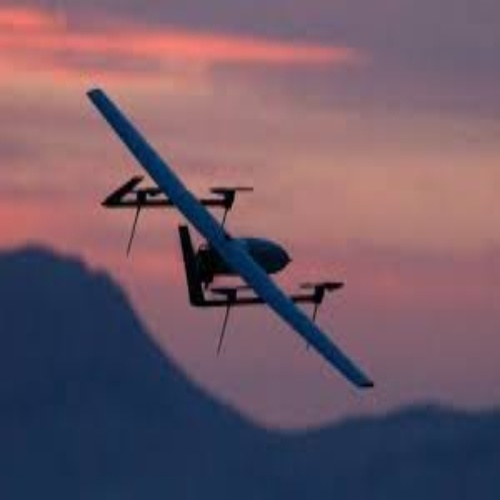uav: (85, 88, 378, 389)
